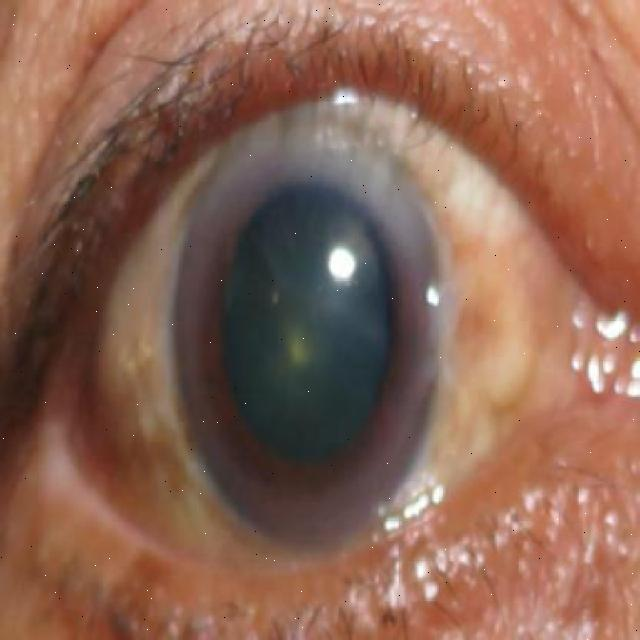Cataract: (174, 127, 453, 550)
